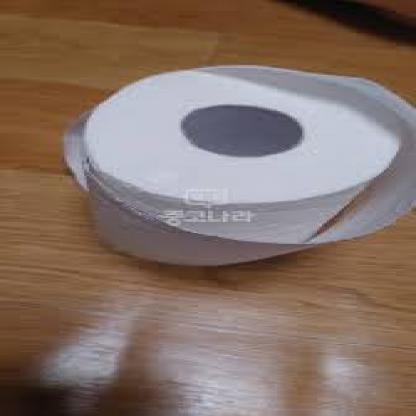tissue: (65, 54, 416, 286)
